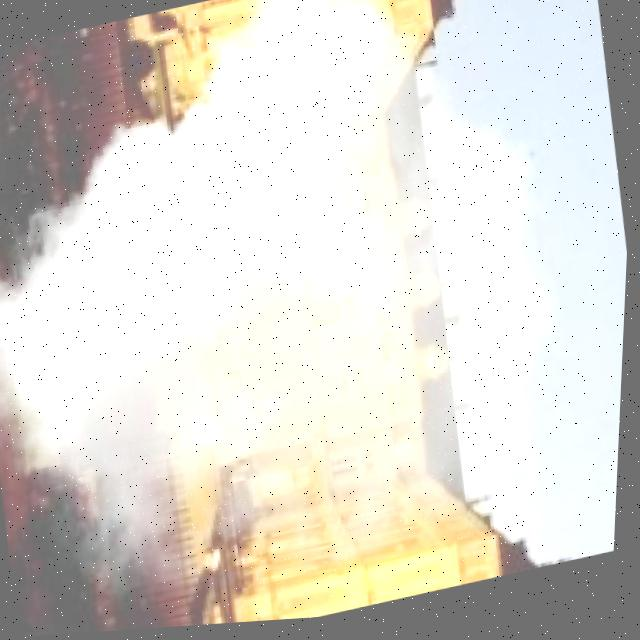Smoke: (0, 0, 588, 632)
